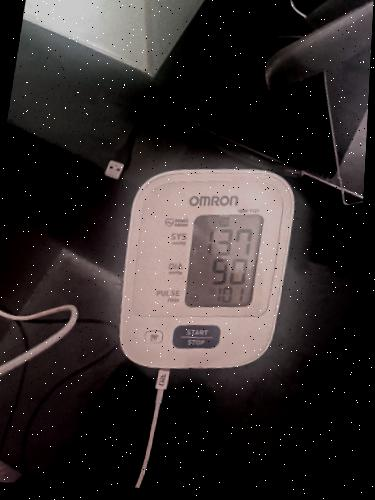bpm: (183, 206, 265, 315)
